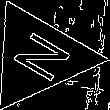N_SE: (3, 26, 74, 87)
